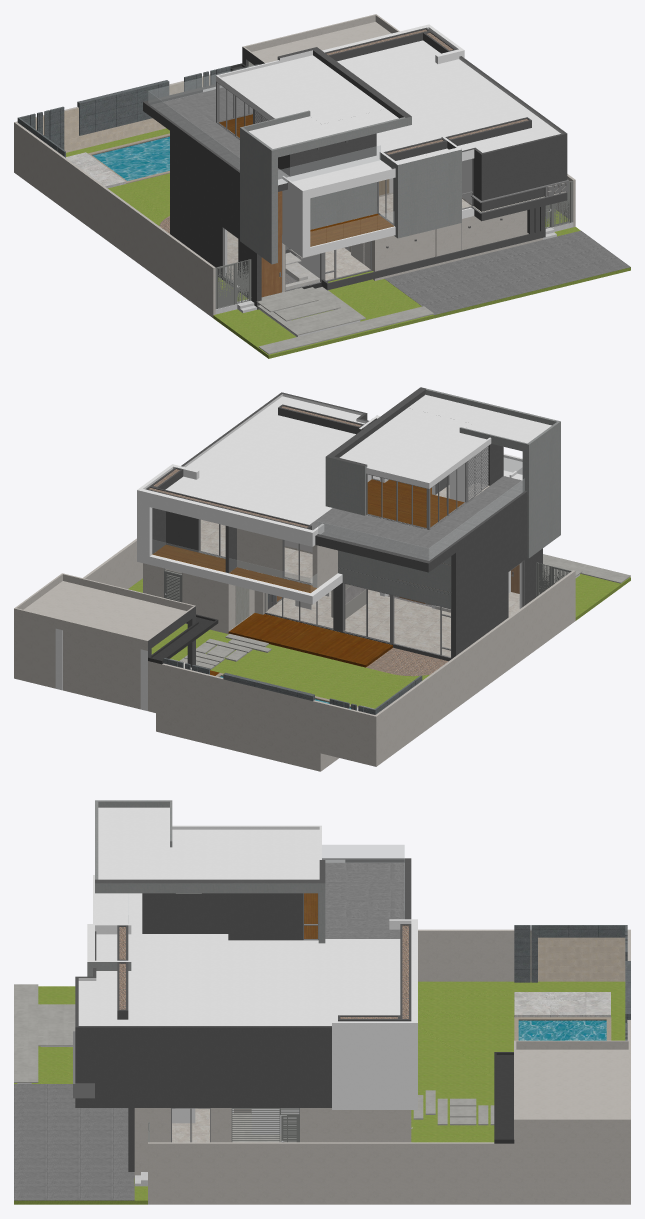
File: hacienda_f22_ar.glb
The picture shows the model from 3 angles, top to bottom: view 1: azimuth 30°, elevation 25°; view 2: azimuth 150°, elevation 25°; view 3: azimuth 270°, elevation 25°; orthographic projection. The views are drawn at different scales.
Visible parts, largest first — view 1: Malla_Pintura blanca, Malla_Pintura gris fach., Malla_Pintura beige, Malla_Concreto (×2), Malla_Piso parqueo, Malla_[Grass Light Green], Malla_Acceso piso, Malla_Pasamanos, Malla_Marmol piscina, Malla_Vidrio fachada, Malla_Piso terraza, Malla_Aluminio pint. negro (+9 smaller); view 2: Malla_Pintura beige, Malla_Pintura blanca, Malla_Pintura gris fach., Malla_Concreto, Malla_Vidrio fachada, Malla_[Grass Light Green], Malla_Deck terraza, Malla_Porcelanato piso, Malla_Piso terraza, Malla_Pasamanos, Malla_Aluminio pint. negro, Malla_Acceso piso (+5 smaller); view 3: Malla_Pintura beige, Malla_Pintura blanca, Malla_Pintura gris fach., Malla_[Grass Light Green], Malla_Piso parqueo, Malla_Acceso piso, Malla_Piso terraza, Malla_Concreto, Malla_Travertine pool, Malla_Marmol piscina, Malla_BBQ piso, Malla_[Water Pool Light] (+8 smaller).
Boxes of the visible parts, x1,y1,x2,y2 form: Malla_Pintura blanca: (203,24,563,292); Malla_Pintura gris fach.: (143,27,567,309); Malla_Pintura beige: (14,14,575,317); Malla_Concreto (×2): (215,57,573,336); Malla_Piso parqueo: (384,230,630,315); Malla_[Grass Light Green]: (66,128,630,358); Malla_Acceso piso: (257,287,433,354); Malla_Pasamanos: (148,64,394,249); Malla_Marmol piscina: (17,66,230,157); Malla_Vidrio fachada: (218,84,471,289); Malla_Piso terraza: (151,87,289,179); Malla_Aluminio pint. negro: (216,82,569,291); Malla_Pintura beige: (14,528,575,771); Malla_Pintura blanca: (55,394,551,710); Malla_Pintura gris fach.: (145,387,542,667); Malla_Concreto: (325,389,560,608); Malla_Vidrio fachada: (201,464,522,656); Malla_[Grass Light Green]: (128,573,630,708); Malla_Deck terraza: (152,479,464,675); Malla_Porcelanato piso: (200,484,519,656); Malla_Piso terraza: (310,476,522,560); Malla_Pasamanos: (153,456,524,592); Malla_Aluminio pint. negro: (198,446,524,658); Malla_Acceso piso: (179,554,630,669); Malla_Pintura beige: (134,929,630,1204); Malla_Pintura blanca: (78,807,417,1134); Malla_Pintura gris fach.: (75,858,411,1171); Malla_[Grass Light Green]: (14,981,625,1204); Malla_Piso parqueo: (14,1084,134,1200); Malla_Acceso piso: (14,984,494,1142); Malla_Piso terraza: (325,862,404,938); Malla_Concreto: (87,800,325,976); Malla_Travertine pool: (530,931,625,981); Malla_Marmol piscina: (514,925,630,1040); Malla_BBQ piso: (514,992,610,1017); Malla_[Water Pool Light]: (518,1020,606,1040).
Size of what is drawn, in the model's own units: 0.69 by 0.366 by 0.84.
210 materials, 95 textured.
